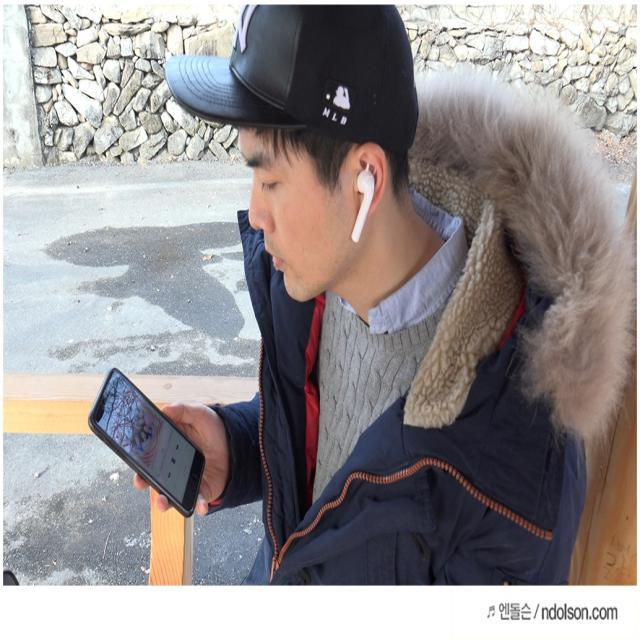earphone: (330, 154, 430, 256)
smart phone: (80, 286, 246, 519)
